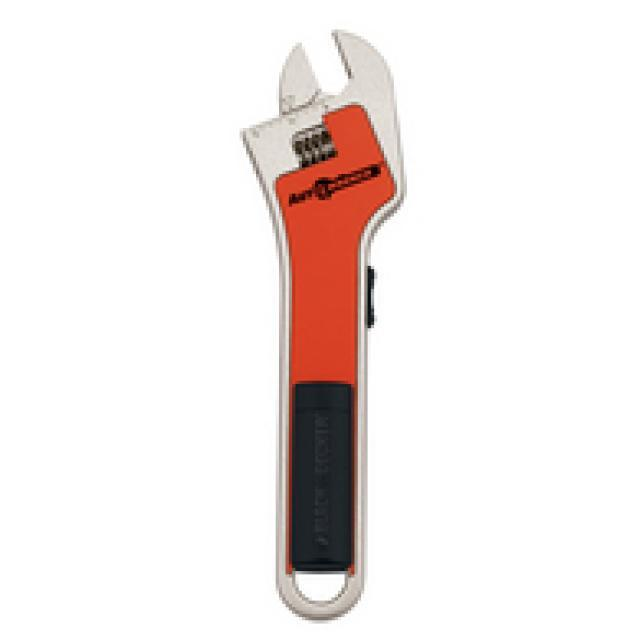wrench: (236, 22, 417, 626)
